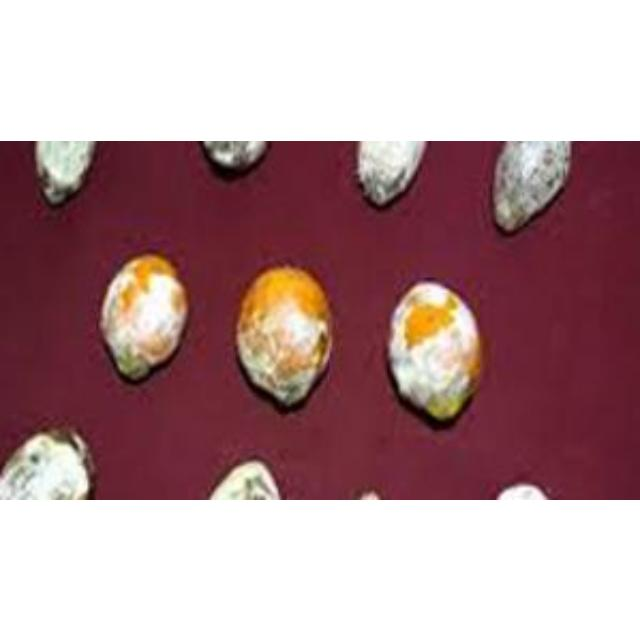damaged: (385, 279, 488, 433), (233, 264, 336, 416), (96, 253, 191, 386), (492, 140, 574, 236), (0, 427, 94, 497), (355, 140, 428, 208), (30, 140, 101, 208)
